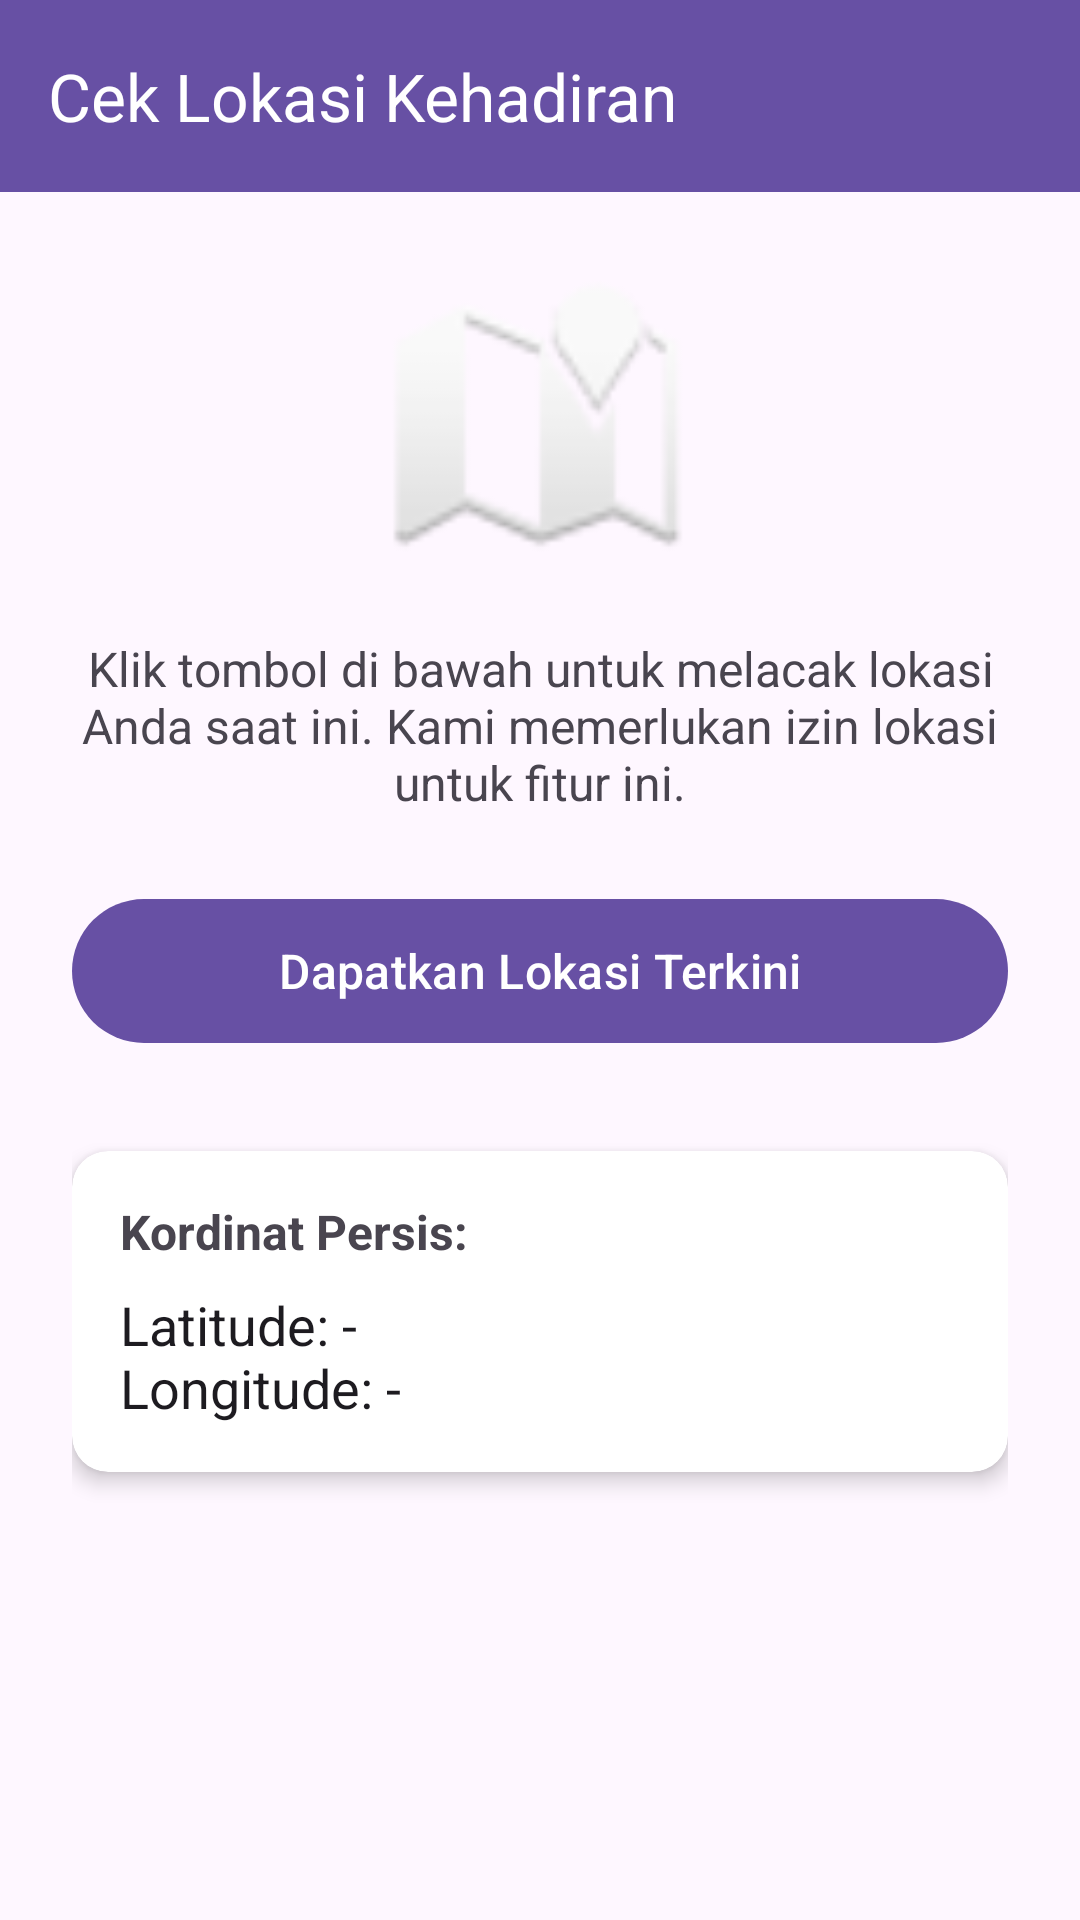

Icons on this 1080px x 1920px Android screen, each with the point to tap as (x=x, y=y):
map: (x=536, y=430)
